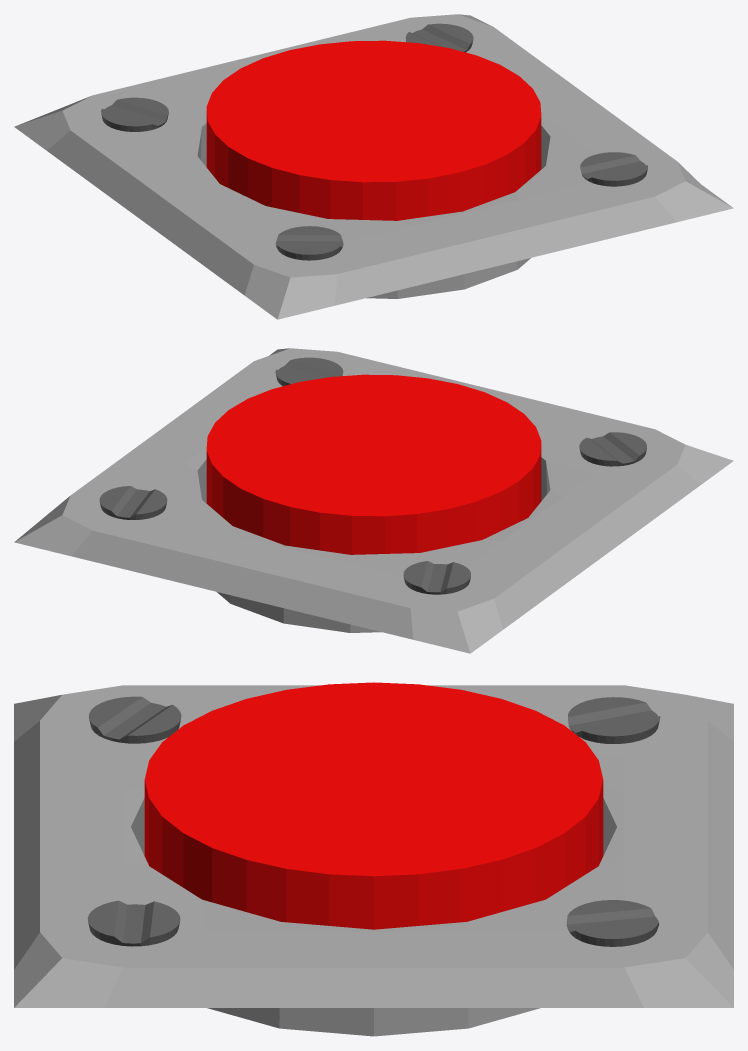
Rendered from props.fbx_B1.fbx.
3 renders of one model, top to bottom at view 1: azimuth 30°, elevation 25°; view 2: azimuth 150°, elevation 25°; view 3: azimuth 270°, elevation 25°, orthographic. The views are drawn at different scales.
Visible parts, largest first — view 1: Plane, Circle, Circle.018; view 2: Plane, Circle, Circle.018; view 3: Plane, Circle, Circle.018.
Boxes of the visible parts, bbox=[...] form: Plane: bbox=[14, 14, 733, 319]; Circle: bbox=[206, 40, 541, 220]; Circle.018: bbox=[101, 23, 647, 260]; Plane: bbox=[14, 348, 733, 653]; Circle: bbox=[206, 374, 541, 554]; Circle.018: bbox=[99, 357, 646, 594]; Plane: bbox=[14, 685, 733, 1036]; Circle: bbox=[144, 682, 603, 929]; Circle.018: bbox=[87, 696, 660, 946].
Size of the model in its own units: 1.04 by 0.2434 by 1.04.
